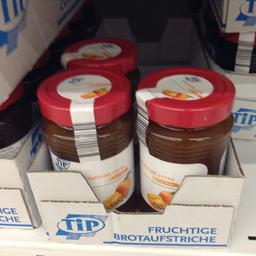jam: (132, 64, 236, 213), (35, 68, 136, 210)
